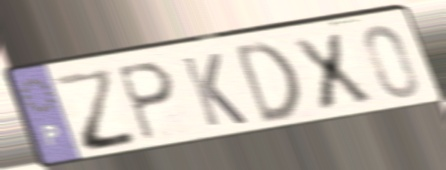0: (362, 23, 421, 101)
D: (231, 37, 306, 128)
K: (177, 51, 252, 130)
P: (113, 59, 178, 145)
X: (286, 29, 377, 114)
Z: (50, 64, 143, 155)
